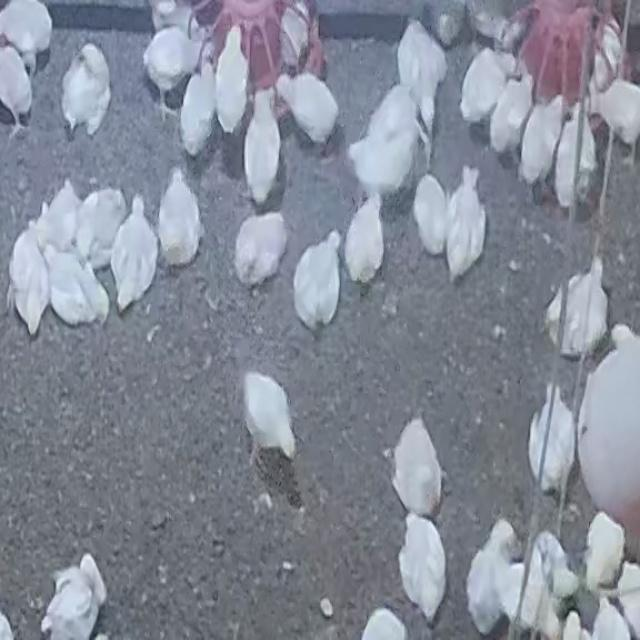chicken: (466, 519, 520, 637), (546, 260, 610, 357), (397, 514, 448, 626), (135, 37, 210, 111), (44, 243, 108, 328), (109, 198, 157, 311), (526, 391, 576, 497), (242, 370, 294, 467), (392, 418, 442, 518), (292, 233, 341, 332), (444, 166, 486, 281), (48, 557, 105, 640), (60, 43, 110, 137), (8, 224, 50, 335), (499, 561, 559, 638), (375, 77, 430, 160), (350, 125, 411, 199), (157, 168, 203, 265), (401, 22, 443, 128), (74, 185, 127, 269), (552, 109, 596, 208), (234, 211, 289, 287), (343, 196, 388, 287), (278, 72, 338, 138), (240, 89, 276, 197), (519, 95, 561, 187), (459, 48, 507, 124), (37, 179, 81, 257), (212, 31, 247, 127), (178, 65, 214, 155), (595, 78, 640, 150), (412, 173, 450, 257), (489, 77, 530, 151), (0, 0, 51, 58), (272, 0, 314, 66), (0, 50, 36, 125), (588, 514, 620, 591), (594, 18, 624, 94), (589, 602, 626, 640), (362, 609, 407, 640), (544, 280, 565, 338)
